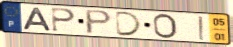A: (21, 6, 54, 32)
D: (115, 10, 144, 37)
I: (197, 15, 206, 41)
O: (152, 12, 179, 40)
P: (84, 9, 114, 35), (50, 7, 77, 34)
